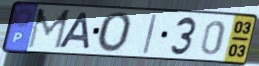0: (199, 19, 229, 56)
3: (168, 15, 198, 57)
A: (57, 11, 92, 51)
I: (141, 13, 159, 56)
M: (26, 8, 73, 51)
O: (95, 11, 134, 55)
